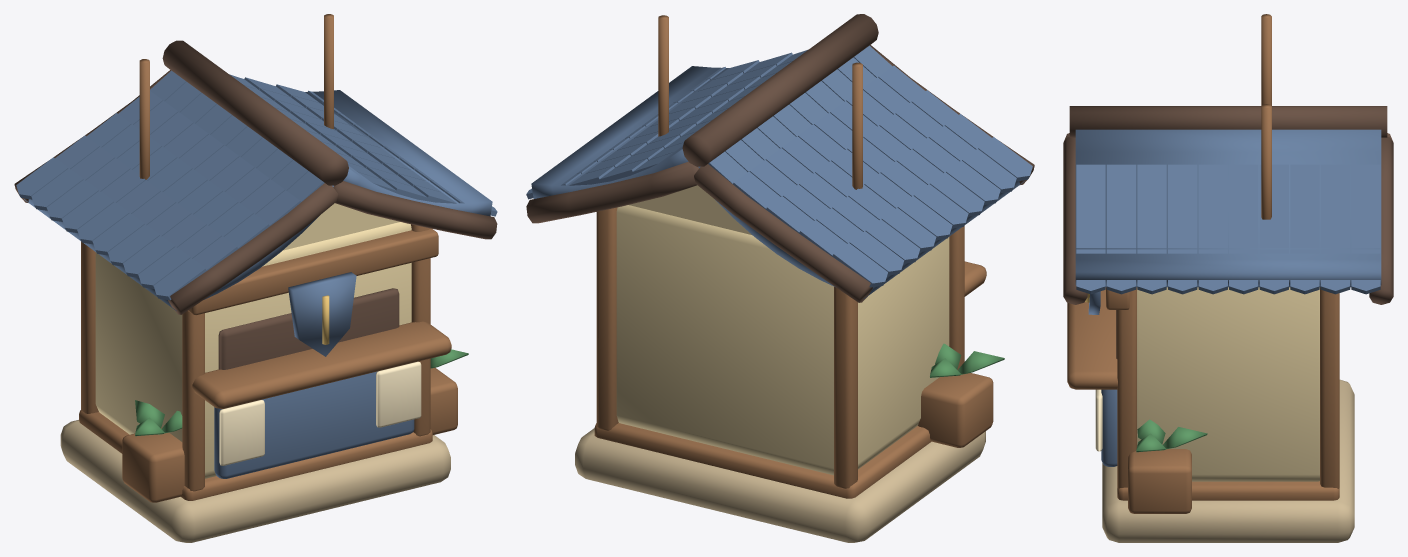
Rendered from booth_guard.glb.
3 renders of one model, left to right at view 1: azimuth 30°, elevation 25°; view 2: azimuth 150°, elevation 25°; view 3: azimuth 270°, elevation 25°, orthographic. The views are drawn at different scales.
Parts seen in each view (by area): view 1: booth_guard_crafted_mesh; view 2: booth_guard_crafted_mesh; view 3: booth_guard_crafted_mesh.
Boxes of the visible parts, x1=… form: booth_guard_crafted_mesh: x1=14, y1=14, x2=497, y2=542; booth_guard_crafted_mesh: x1=526, y1=14, x2=1034, y2=542; booth_guard_crafted_mesh: x1=1063, y1=14, x2=1393, y2=542.
Bounding box in the file's own units: 2.57 × 3.05 × 2.17.
